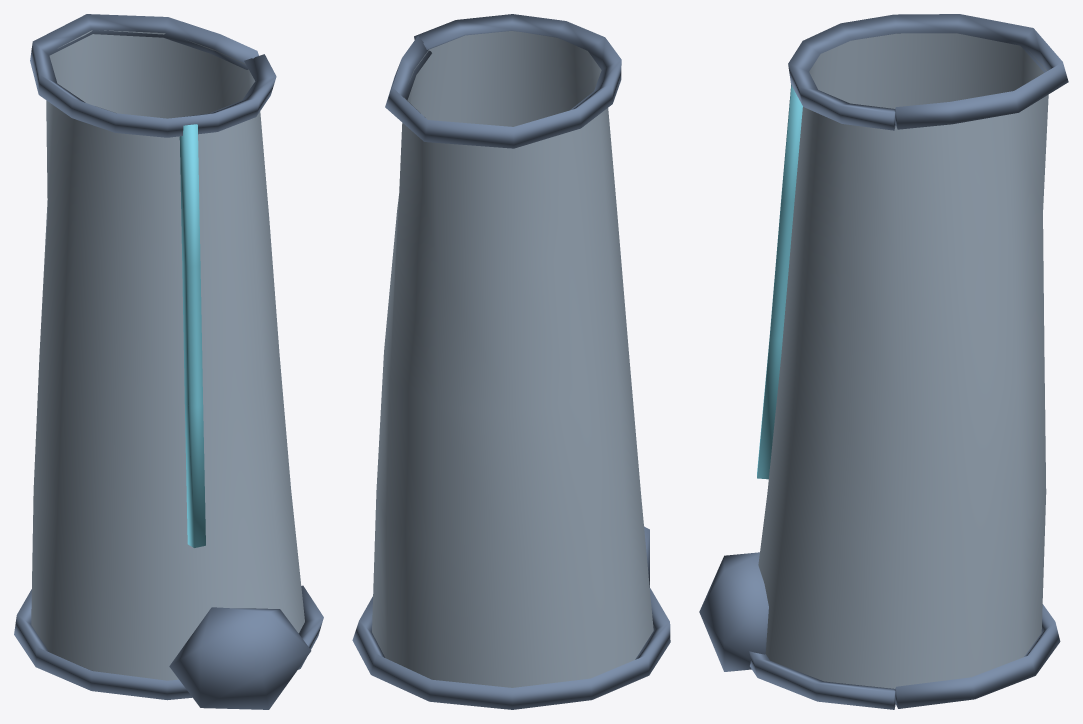
File: titanium_armor_greave.L.glb
3 renders of one model, left to right at view 1: azimuth 30°, elevation 25°; view 2: azimuth 150°, elevation 25°; view 3: azimuth 270°, elevation 25°, orthographic. The views are drawn at different scales.
Visible parts, largest first — view 1: titanium_armor_greave.L; view 2: titanium_armor_greave.L; view 3: titanium_armor_greave.L.
Boxes of the visible parts, left/top/right/bottom form: titanium_armor_greave.L: left=14, top=14, right=323, bottom=709; titanium_armor_greave.L: left=352, top=14, right=670, bottom=709; titanium_armor_greave.L: left=699, top=14, right=1068, bottom=709.
Bounding box in the file's own units: 0.1942 × 0.4045 × 0.2254.
